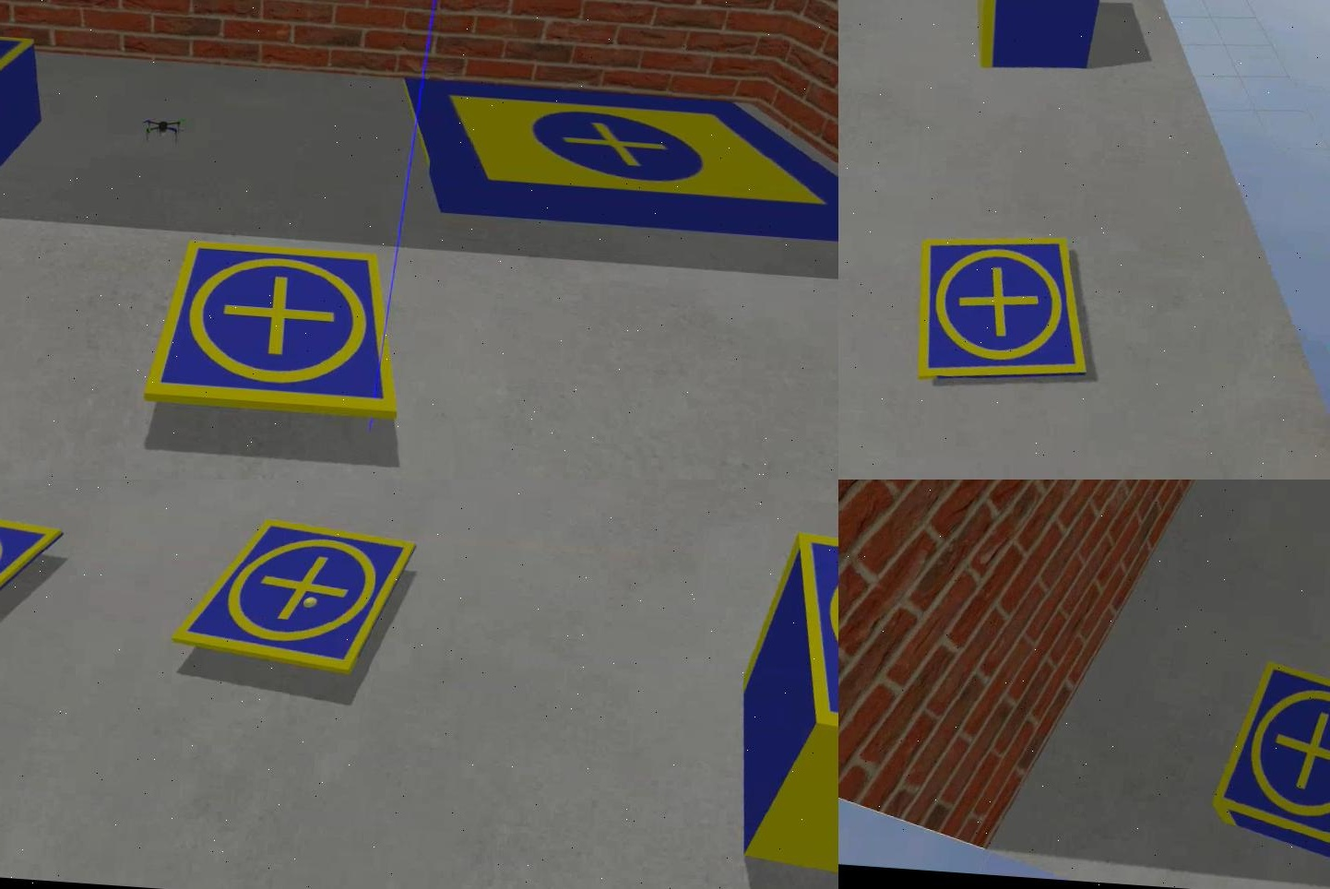large_base: (390, 77, 837, 249)
small_base: (138, 236, 409, 422), (165, 509, 420, 682), (912, 231, 1097, 389), (1205, 660, 1328, 859), (0, 509, 68, 649)
